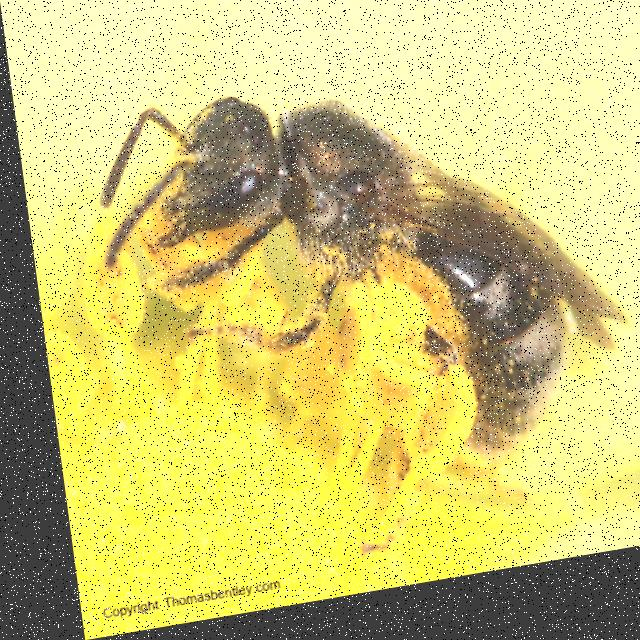Lasioglossum: (76, 34, 640, 530)
